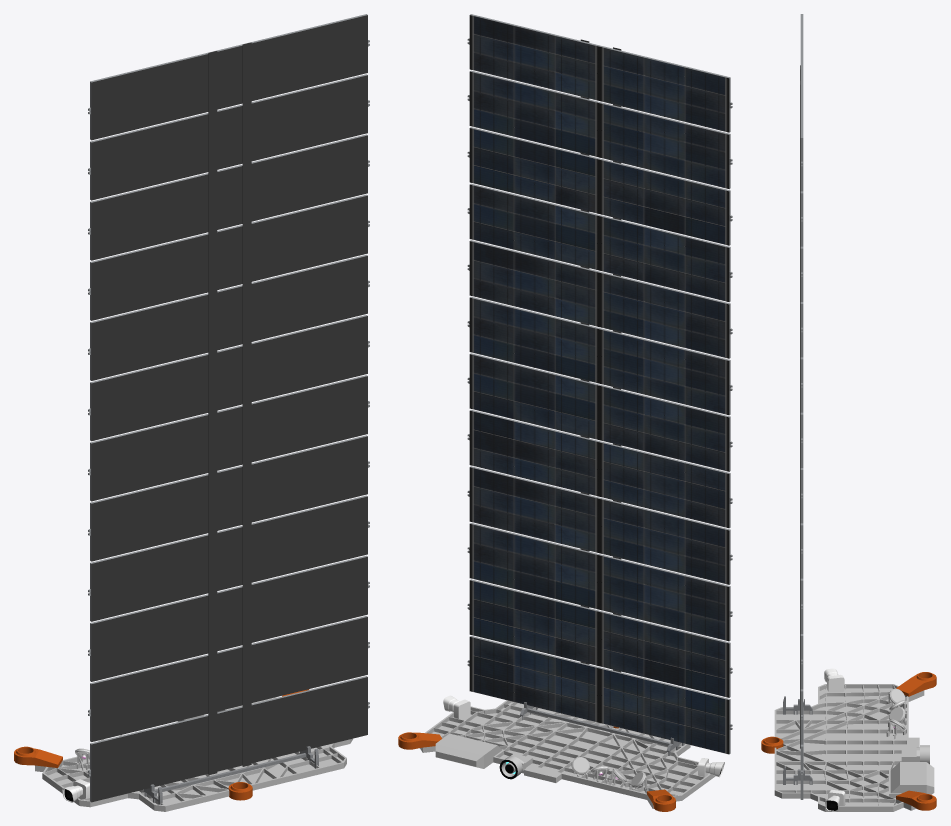
The model's file is StarLink.glb.
The picture shows the model from 3 angles, left to right: view 1: azimuth 30°, elevation 25°; view 2: azimuth 150°, elevation 25°; view 3: azimuth 270°, elevation 25°; orthographic projection. The views are drawn at different scales.
Parts seen in each view (by area): view 1: Solar Panel, Base, Holder 1; view 2: Solar Panel, Base, Holder 2; view 3: Base, Solar Panel, Holder 1, Holder 2, Camera 1, Camera 2.
Boxes of the visible parts, left/top/right/bottom form: Solar Panel: left=88, top=14, right=369, bottom=802; Base: left=35, top=697, right=352, bottom=811; Holder 1: left=14, top=746, right=62, bottom=767; Solar Panel: left=467, top=14, right=732, bottom=754; Base: left=420, top=700, right=715, bottom=808; Holder 2: left=398, top=732, right=441, bottom=749; Base: left=774, top=684, right=934, bottom=811; Solar Panel: left=800, top=14, right=803, bottom=799; Holder 1: left=896, top=672, right=936, bottom=696; Holder 2: left=896, top=790, right=936, bottom=810; Camera 1: left=824, top=668, right=844, bottom=692; Camera 2: left=825, top=789, right=845, bottom=811.
Size of the model in its own units: 4.32 by 10.29 by 2.41.
12 materials, 3 textured.
